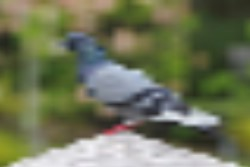pigeon: (56, 31, 224, 138)
